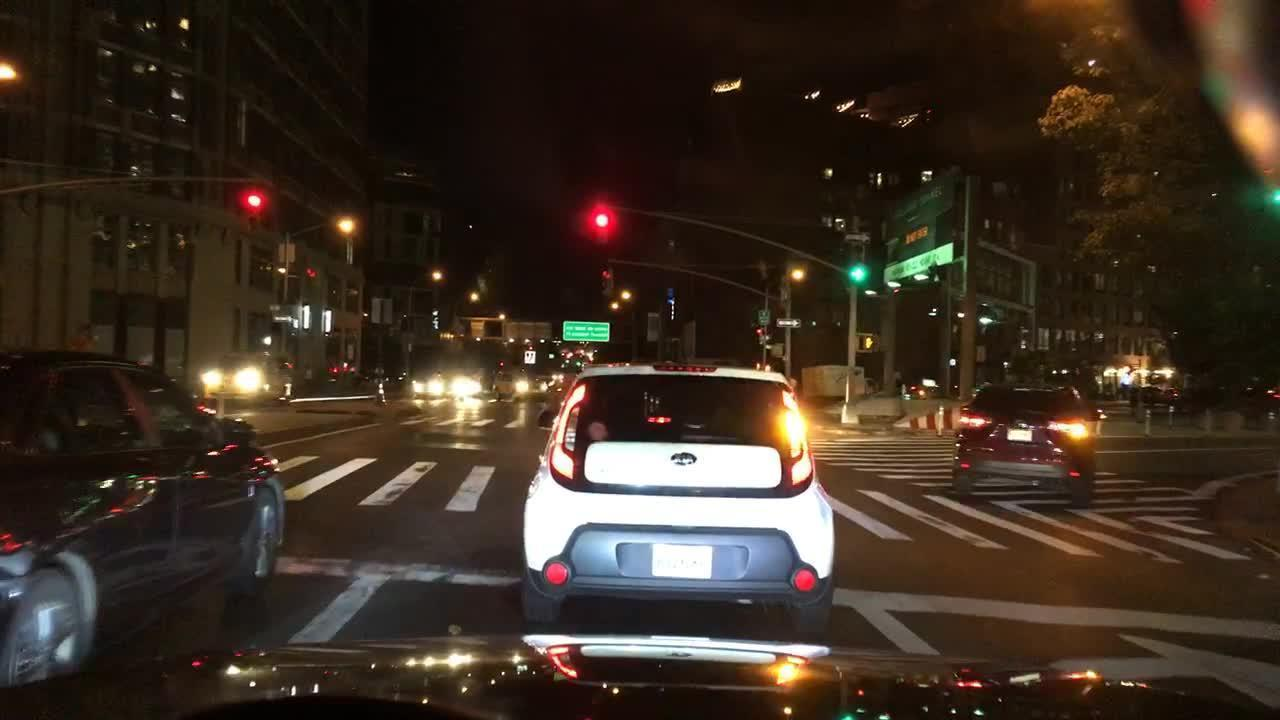kia: (661, 444, 704, 471)
